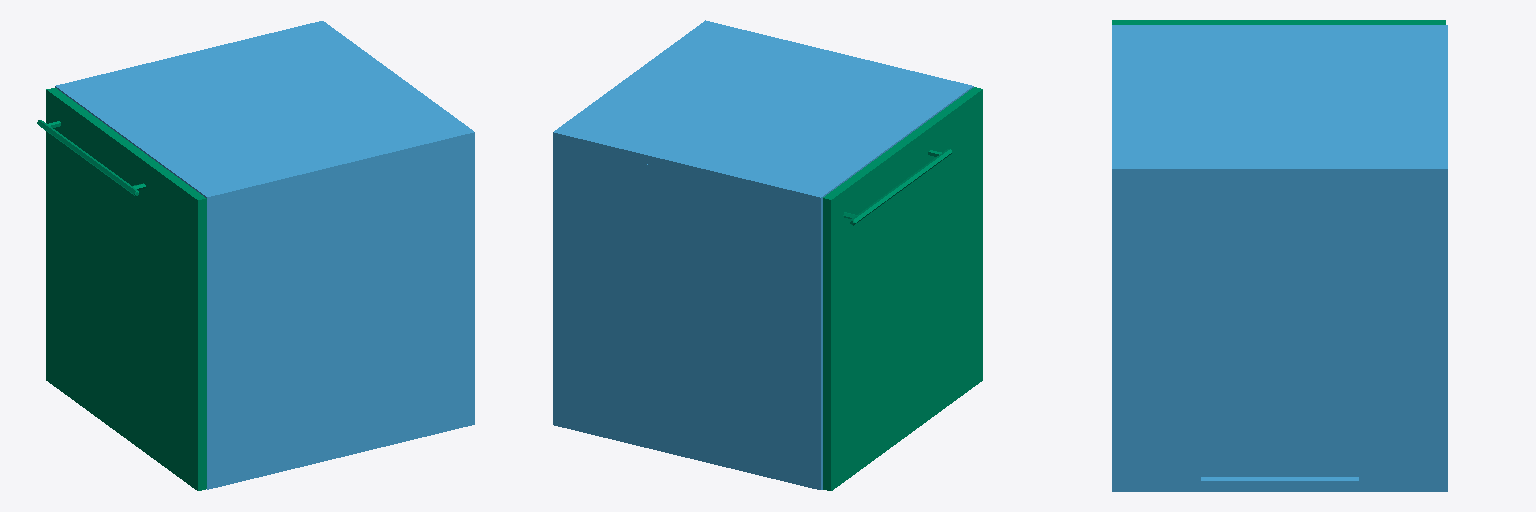
The robot description file, URDF, robot "partnet_c328da20f2af4eb14c3aee8e9d3a6ffa":
<?xml version="1.0" ?>
<robot name="partnet_c328da20f2af4eb14c3aee8e9d3a6ffa">
	<link name="base"/>
	<link name="link_0">
		<visual name="vertical_side_panel-6">
			<origin xyz="0 0 0"/>
			<geometry>
				<mesh filename="textured_objs/original-10.obj"/>
			</geometry>
		</visual>
		<visual name="vertical_side_panel-6">
			<origin xyz="0 0 0"/>
			<geometry>
				<mesh filename="textured_objs/original-9.obj"/>
			</geometry>
		</visual>
		<visual name="vertical_side_panel-7">
			<origin xyz="0 0 0"/>
			<geometry>
				<mesh filename="textured_objs/original-13.obj"/>
			</geometry>
		</visual>
		<visual name="vertical_side_panel-7">
			<origin xyz="0 0 0"/>
			<geometry>
				<mesh filename="textured_objs/original-12.obj"/>
			</geometry>
		</visual>
		<visual name="vertical_divider_panel-8">
			<origin xyz="0 0 0"/>
			<geometry>
				<mesh filename="textured_objs/original-18.obj"/>
			</geometry>
		</visual>
		<visual name="back_panel-9">
			<origin xyz="0 0 0"/>
			<geometry>
				<mesh filename="textured_objs/original-15.obj"/>
			</geometry>
		</visual>
		<visual name="bottom_panel-10">
			<origin xyz="0 0 0"/>
			<geometry>
				<mesh filename="textured_objs/original-4.obj"/>
			</geometry>
		</visual>
		<visual name="bottom_panel-10">
			<origin xyz="0 0 0"/>
			<geometry>
				<mesh filename="textured_objs/original-3.obj"/>
			</geometry>
		</visual>
		<visual name="top_panel-11">
			<origin xyz="0 0 0"/>
			<geometry>
				<mesh filename="textured_objs/original-7.obj"/>
			</geometry>
		</visual>
		<visual name="top_panel-11">
			<origin xyz="0 0 0"/>
			<geometry>
				<mesh filename="textured_objs/original-6.obj"/>
			</geometry>
		</visual>
		<visual name="frame_vertical_bar-12">
			<origin xyz="0 0 0"/>
			<geometry>
				<mesh filename="textured_objs/original-14.obj"/>
			</geometry>
		</visual>
		<visual name="frame_vertical_bar-13">
			<origin xyz="0 0 0"/>
			<geometry>
				<mesh filename="textured_objs/original-16.obj"/>
			</geometry>
		</visual>
		<collision>
			<origin xyz="0 0 0"/>
			<geometry>
				<mesh filename="textured_objs/original-10.obj"/>
			</geometry>
		</collision>
		<collision>
			<origin xyz="0 0 0"/>
			<geometry>
				<mesh filename="textured_objs/original-9.obj"/>
			</geometry>
		</collision>
		<collision>
			<origin xyz="0 0 0"/>
			<geometry>
				<mesh filename="textured_objs/original-13.obj"/>
			</geometry>
		</collision>
		<collision>
			<origin xyz="0 0 0"/>
			<geometry>
				<mesh filename="textured_objs/original-12.obj"/>
			</geometry>
		</collision>
		<collision>
			<origin xyz="0 0 0"/>
			<geometry>
				<mesh filename="textured_objs/original-18.obj"/>
			</geometry>
		</collision>
		<collision>
			<origin xyz="0 0 0"/>
			<geometry>
				<mesh filename="textured_objs/original-15.obj"/>
			</geometry>
		</collision>
		<collision>
			<origin xyz="0 0 0"/>
			<geometry>
				<mesh filename="textured_objs/original-4.obj"/>
			</geometry>
		</collision>
		<collision>
			<origin xyz="0 0 0"/>
			<geometry>
				<mesh filename="textured_objs/original-3.obj"/>
			</geometry>
		</collision>
		<collision>
			<origin xyz="0 0 0"/>
			<geometry>
				<mesh filename="textured_objs/original-7.obj"/>
			</geometry>
		</collision>
		<collision>
			<origin xyz="0 0 0"/>
			<geometry>
				<mesh filename="textured_objs/original-6.obj"/>
			</geometry>
		</collision>
		<collision>
			<origin xyz="0 0 0"/>
			<geometry>
				<mesh filename="textured_objs/original-14.obj"/>
			</geometry>
		</collision>
		<collision>
			<origin xyz="0 0 0"/>
			<geometry>
				<mesh filename="textured_objs/original-16.obj"/>
			</geometry>
		</collision>
	</link>
	<joint name="joint_0" type="fixed">
		<origin rpy="1.570796326794897 0 -1.570796326794897" xyz="0 0 0"/>
		<child link="link_0"/>
		<parent link="base"/>
	</joint>
	<link name="link_1">
		<visual name="cabinet_door_surface-4">
			<origin xyz="-0.5781928332389428 0 -0.5776188105107846"/>
			<geometry>
				<mesh filename="textured_objs/original-20.obj"/>
			</geometry>
		</visual>
		<visual name="handle-5">
			<origin xyz="-0.5781928332389428 0 -0.5776188105107846"/>
			<geometry>
				<mesh filename="textured_objs/original-23.obj"/>
			</geometry>
		</visual>
		<visual name="handle-5">
			<origin xyz="-0.5781928332389428 0 -0.5776188105107846"/>
			<geometry>
				<mesh filename="textured_objs/original-24.obj"/>
			</geometry>
		</visual>
		<visual name="handle-5">
			<origin xyz="-0.5781928332389428 0 -0.5776188105107846"/>
			<geometry>
				<mesh filename="textured_objs/original-22.obj"/>
			</geometry>
		</visual>
		<collision>
			<origin xyz="-0.5781928332389428 0 -0.5776188105107846"/>
			<geometry>
				<mesh filename="textured_objs/original-20.obj"/>
			</geometry>
		</collision>
		<collision>
			<origin xyz="-0.5781928332389428 0 -0.5776188105107846"/>
			<geometry>
				<mesh filename="textured_objs/original-23.obj"/>
			</geometry>
		</collision>
		<collision>
			<origin xyz="-0.5781928332389428 0 -0.5776188105107846"/>
			<geometry>
				<mesh filename="textured_objs/original-24.obj"/>
			</geometry>
		</collision>
		<collision>
			<origin xyz="-0.5781928332389428 0 -0.5776188105107846"/>
			<geometry>
				<mesh filename="textured_objs/original-22.obj"/>
			</geometry>
		</collision>
	</link>
	<joint name="joint_1" type="revolute">
		<origin xyz="0.5781928332389428 0 0.5776188105107846"/>
		<axis xyz="0 1 0"/>
		<child link="link_1"/>
		<parent link="link_0"/>
		<limit lower="0.0" upper="1.5707963267948966"/>
	</joint>
</robot>

--- Facts derived from the render (not from the file) ---
Views: 3 orthographic renders of the robot side by side, from view 1: azimuth 30°, elevation 25°; view 2: azimuth 150°, elevation 25°; view 3: azimuth 270°, elevation 25°.
Model partnet_c328da20f2af4eb14c3aee8e9d3a6ffa with 3 links and 2 joints (1 revolute, 1 fixed), rooted at base, posed all joints at 0.
Visible links, largest first — view 1: link_0, link_1; view 2: link_0, link_1; view 3: link_0, link_1.
Boxes of the visible links, x1,y1,x2,y2 form: link_0: (55, 21, 474, 489); link_1: (37, 88, 206, 490); link_0: (553, 20, 973, 489); link_1: (823, 87, 982, 490); link_0: (1112, 25, 1447, 491); link_1: (1112, 20, 1445, 24).
Bounding box of the posed robot: 1.3 × 1.16 × 1.23 m (x, y, z).
Meshes: 16 distinct files referenced, 16 mesh visuals loaded (16 OBJ).
